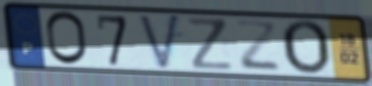7: (94, 13, 130, 67)
O: (279, 19, 332, 77), (44, 10, 90, 68)
V: (136, 13, 184, 73)
Z: (185, 16, 237, 72), (232, 18, 283, 73)
